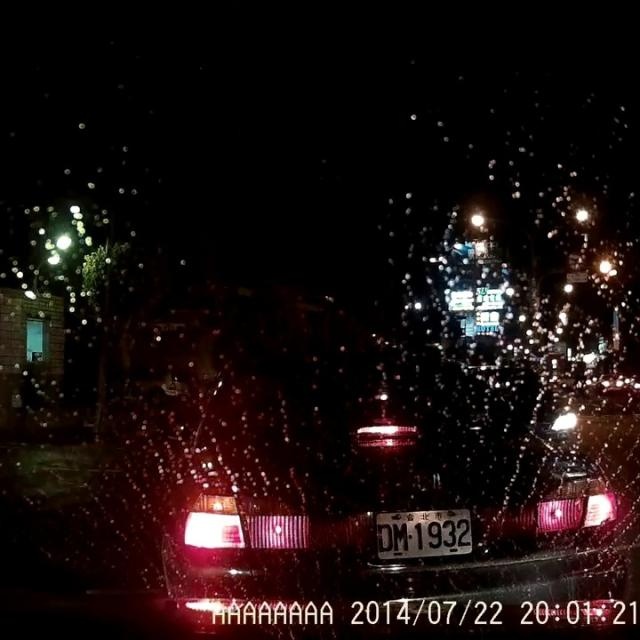Car: (133, 328, 630, 605)
